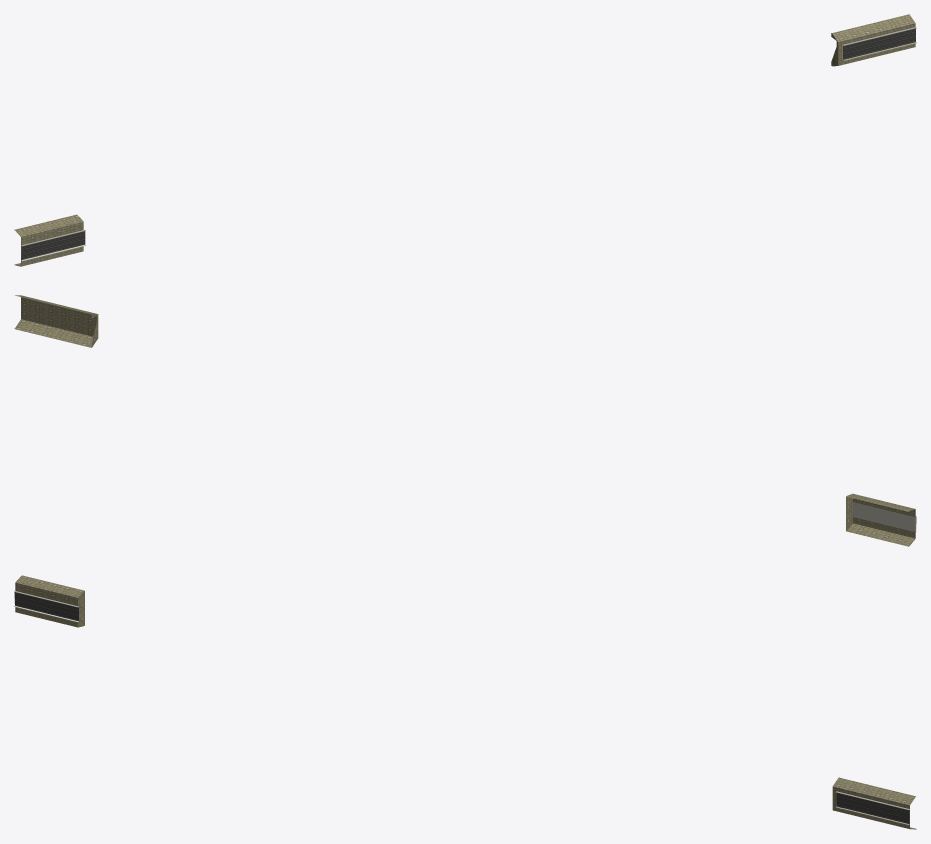
The model's file is env_road.obj.
3 renders of one model, top to bottom at view 1: azimuth 30°, elevation 25°; view 2: azimuth 150°, elevation 25°; view 3: azimuth 330°, elevation 25°, orthographic.
Parts seen in each view (by area): view 1: _14, _12; view 2: _14, _8; view 3: _14, _12.
Boxes of the visible parts, box(x1,y1,x2,y2) form: _14: box(14, 14, 915, 266); _12: box(21, 28, 915, 259); _14: box(14, 295, 915, 546); _8: box(853, 502, 916, 532); _14: box(15, 575, 916, 829); _12: box(15, 592, 909, 823).
Size of the model in its own units: 341 by 12.85 by 5.45.
